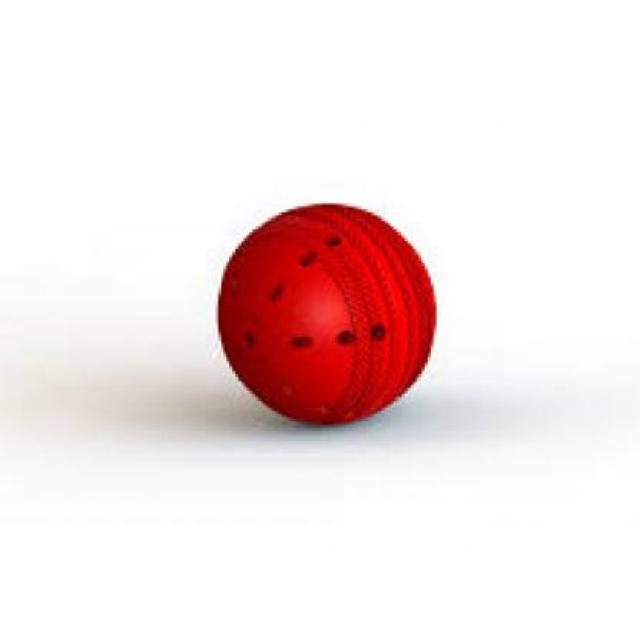ball: (181, 151, 479, 465)
